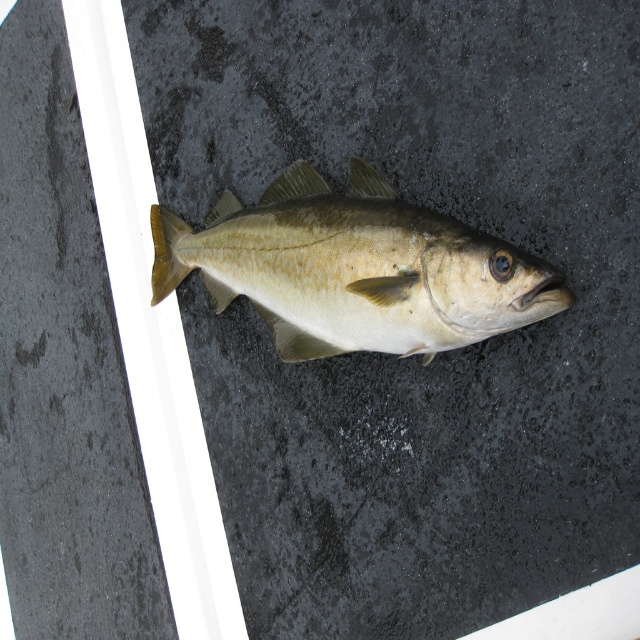Fish: (150, 157, 575, 367)
